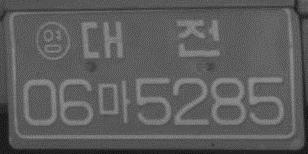0: (22, 78, 57, 127)
2: (172, 75, 211, 126)
5: (134, 76, 172, 126), (247, 75, 284, 125)
6: (58, 77, 94, 127)
8: (210, 76, 247, 126)
대전_D: (78, 17, 220, 60)
마: (96, 79, 131, 124)
영: (35, 20, 70, 60)
